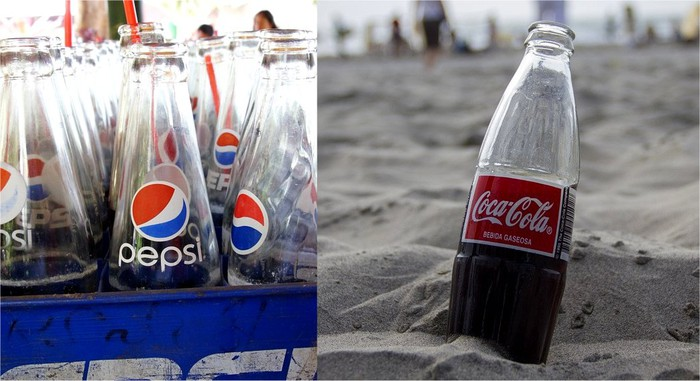pepsi: (127, 176, 188, 241), (127, 179, 188, 241), (232, 187, 268, 253), (18, 154, 53, 201), (213, 126, 240, 166)
